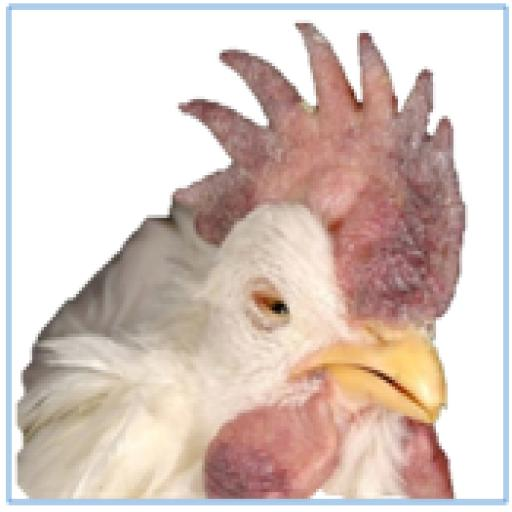disease: (383, 112, 470, 318), (232, 240, 307, 364)
